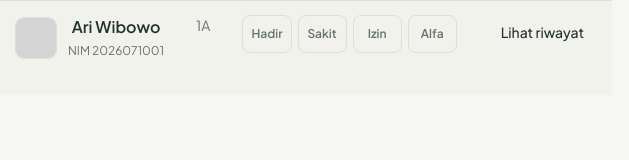
production Attendance update path › refreshes the owning list after a new online Attendance is created
The width and height of the screenshot is (629, 160).
Click the button with aria-label "Hadir — Ari Wibowo".
click(267, 34)  # box 242,15 -> 292,53
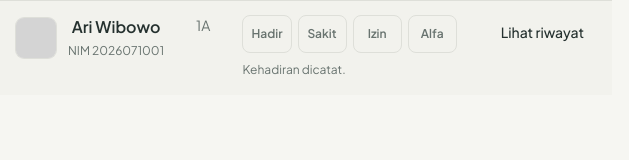
Result: the text "Kehadiran dicatat." is shown at 242,62 -> 346,77
